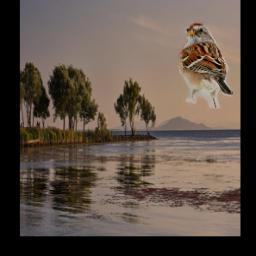Sparrow: (178, 22, 233, 108)
